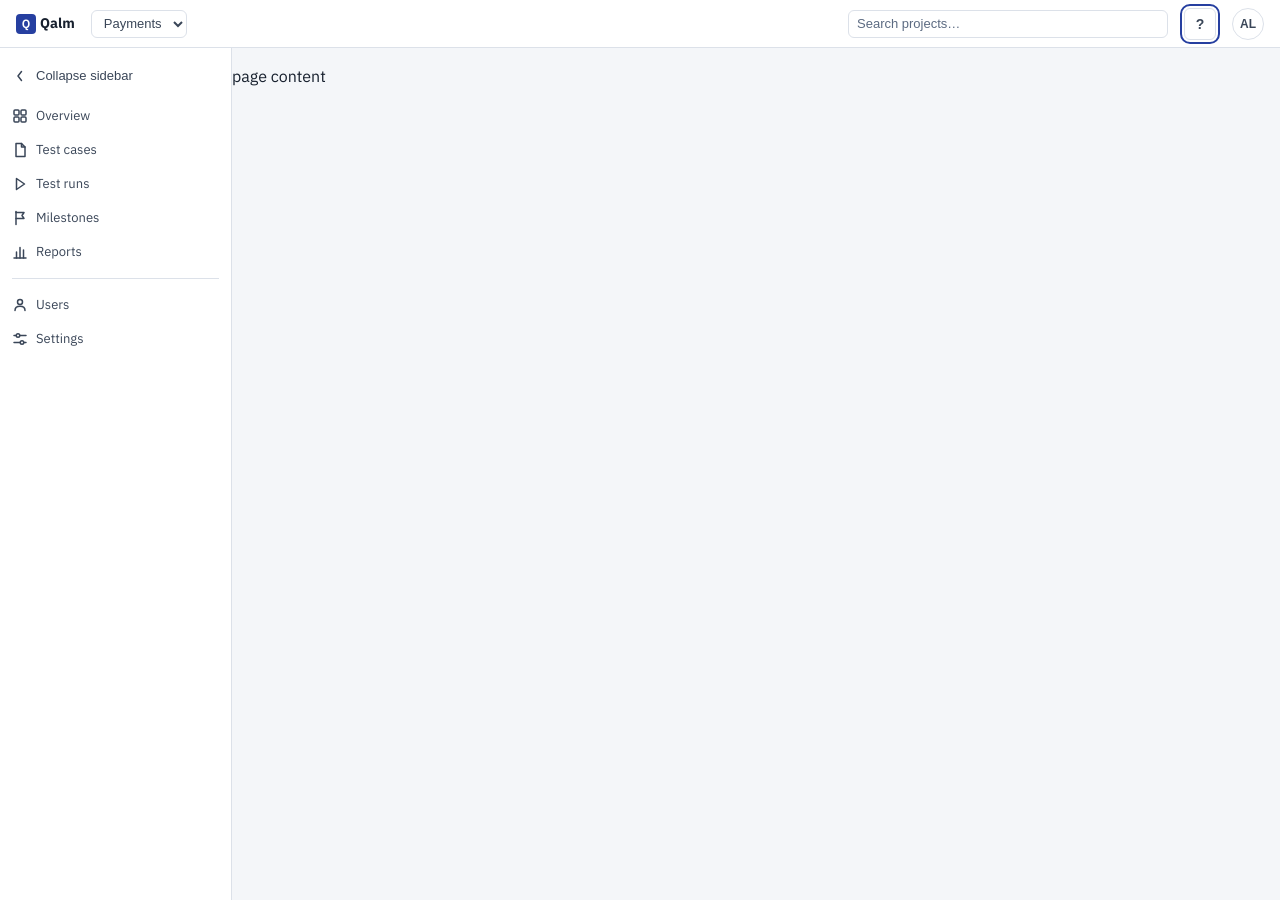
Test: §7 shortcuts › ? opens the shortcuts help dialog, Esc and Close close it
The image size is (1280, 900).
Press ?
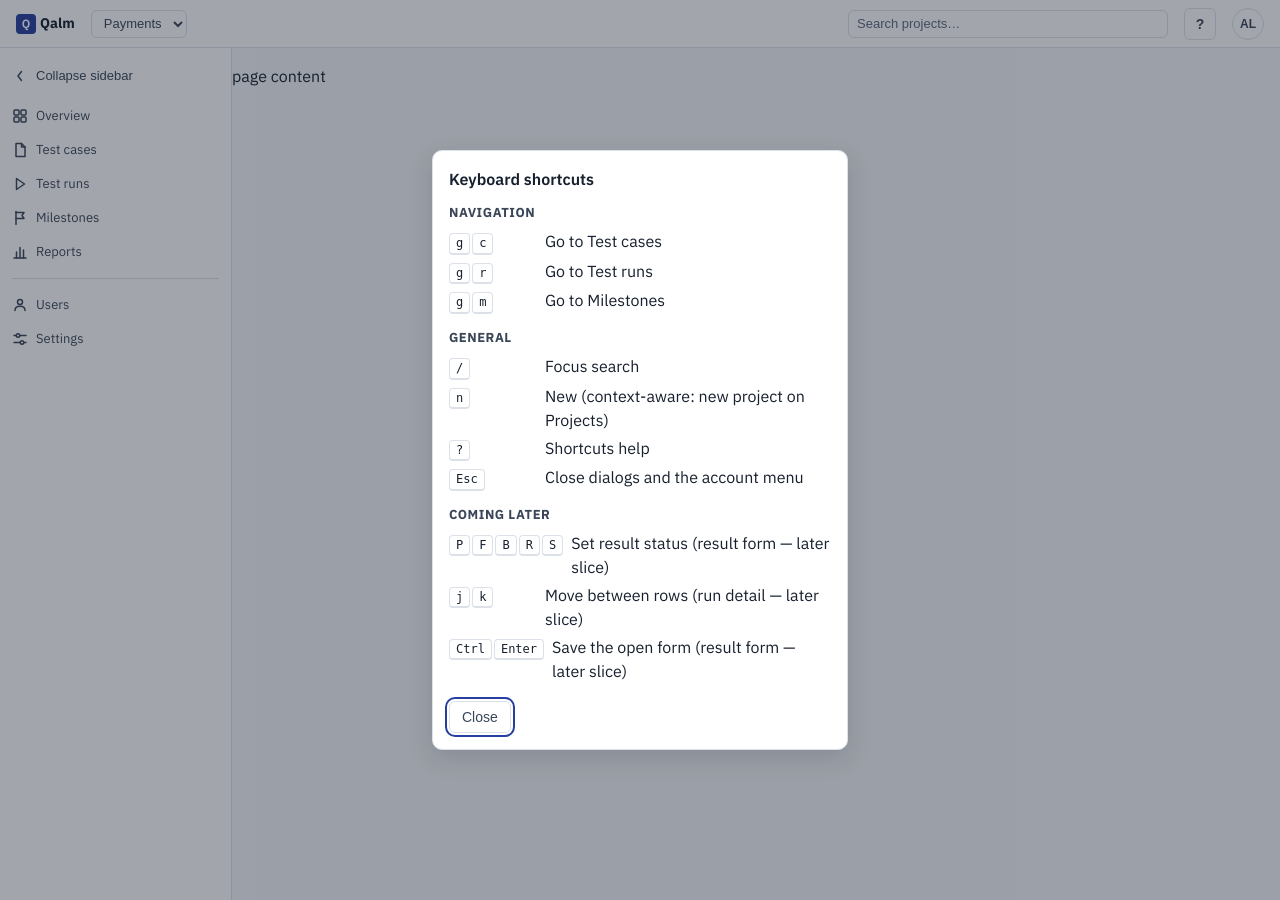
Expected: the text "Go to Test cases" is shown, 545,229 -> 662,253
Expected: the text "Focus search" is shown, 545,354 -> 639,378
Expected: the text "New (context-aware: new project on Projects)" is shown, 545,384 -> 831,432
Press Escape
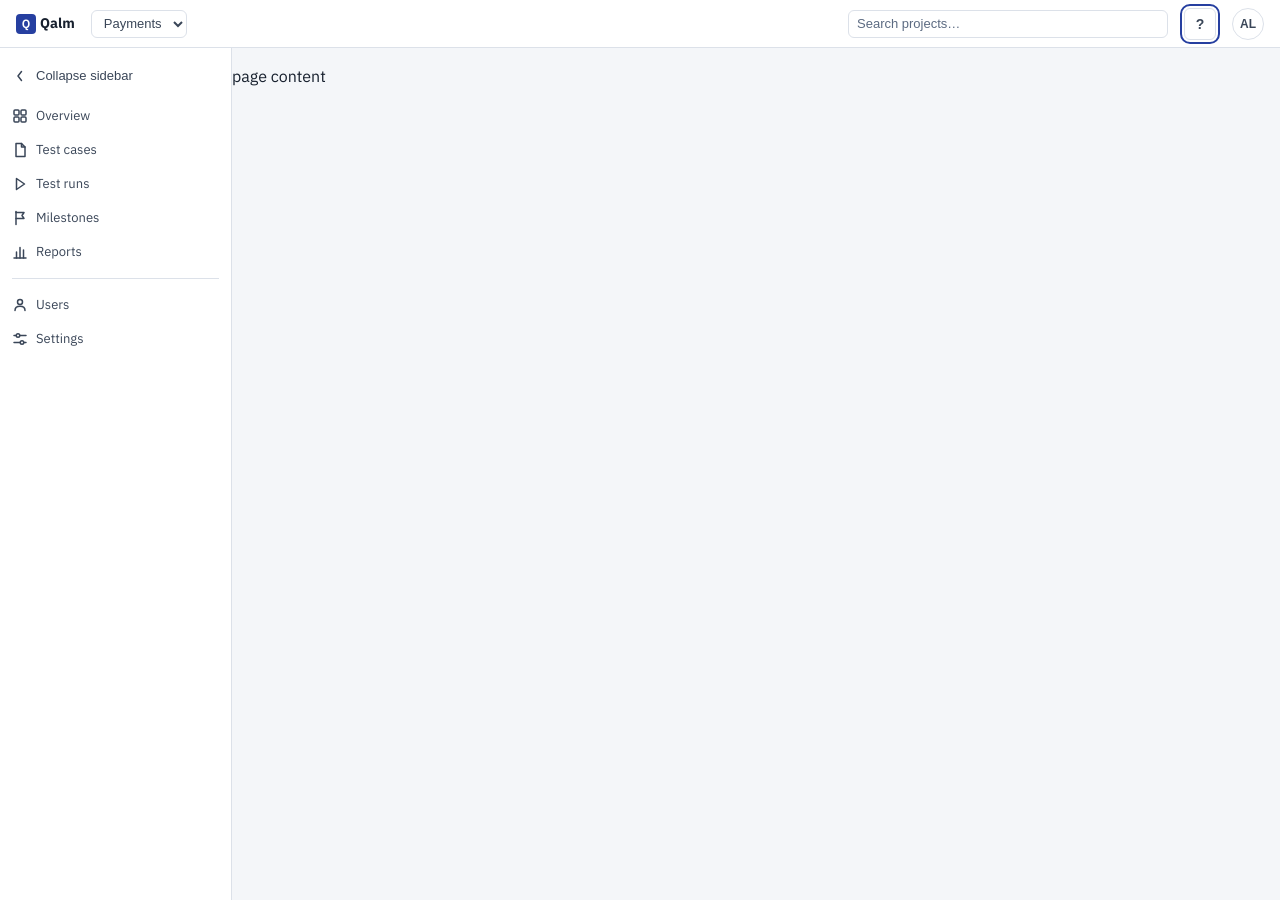
Expected: the dialog is gone
Re-open via the button (not just the key), close with its Close.
Click the button named "Keyboard shortcuts help".
click(1200, 24)  # box 1184,8 -> 1216,40
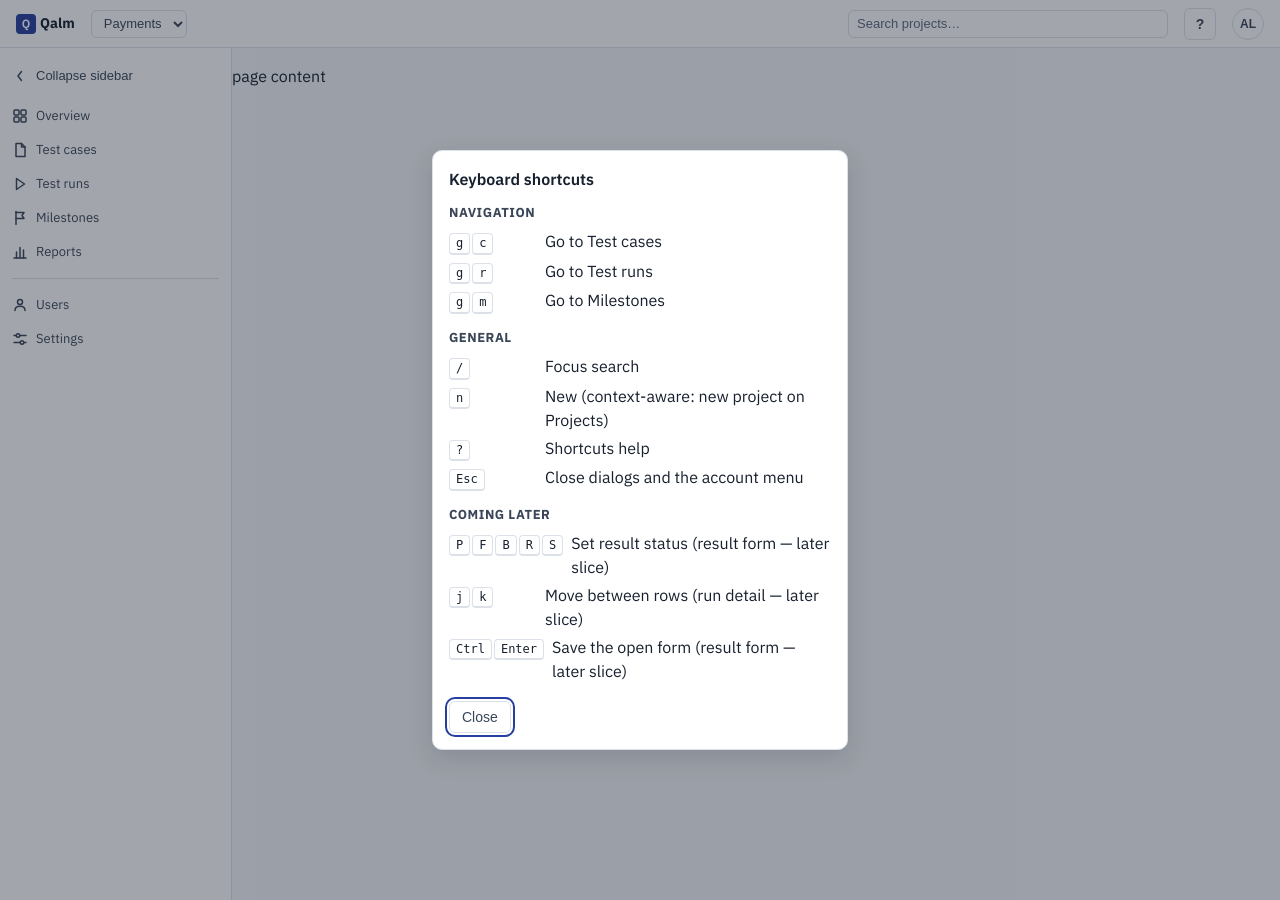
Click the button "Close".
click(480, 717)  # box 449,701 -> 511,733
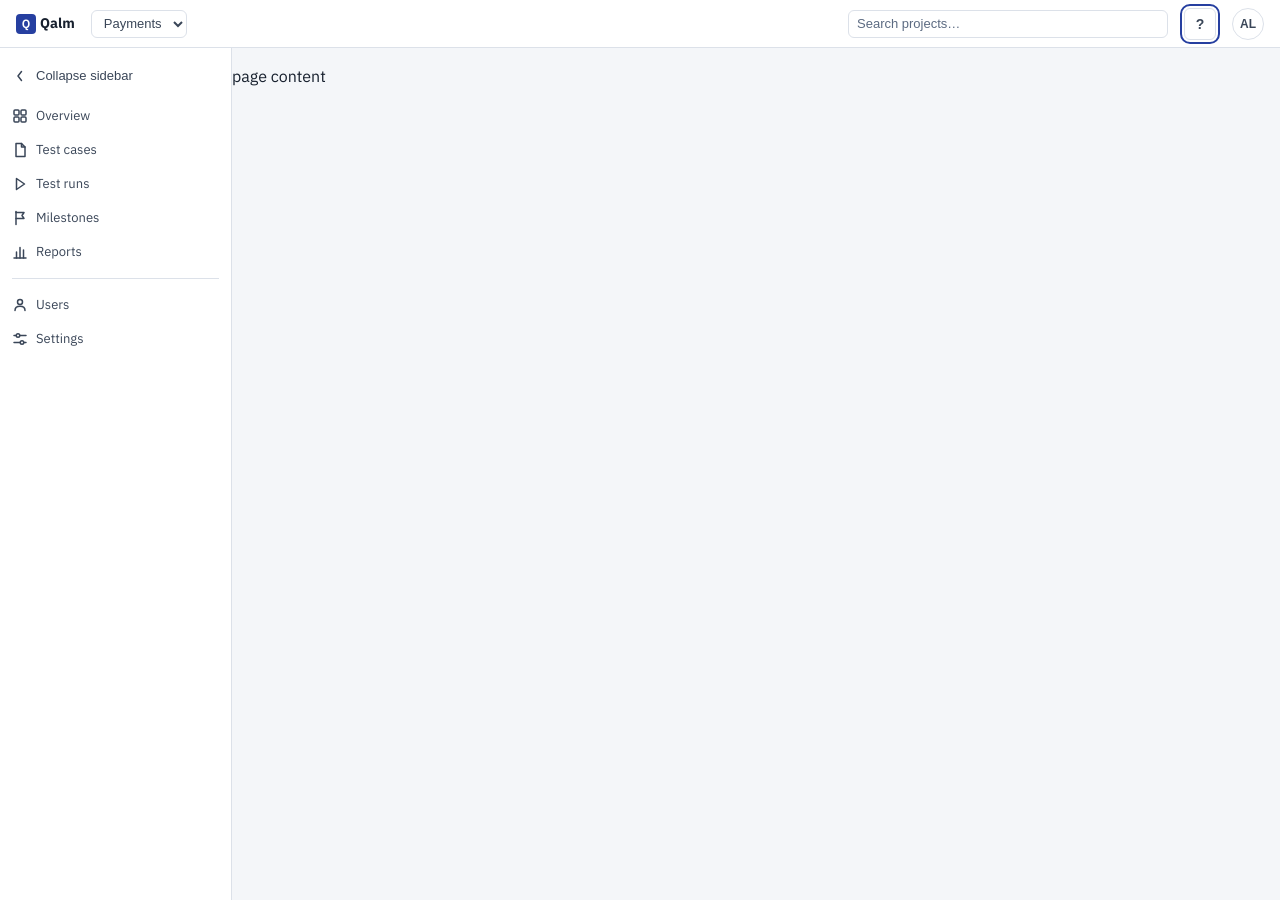
Expected: the dialog is gone
